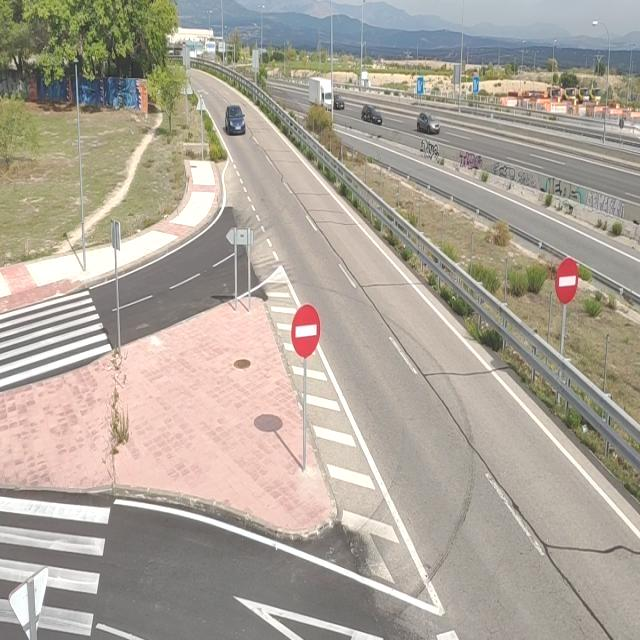Car: (220, 103, 251, 136), (411, 109, 446, 138), (356, 103, 390, 127), (327, 87, 352, 115)
Van: (302, 77, 335, 109)
